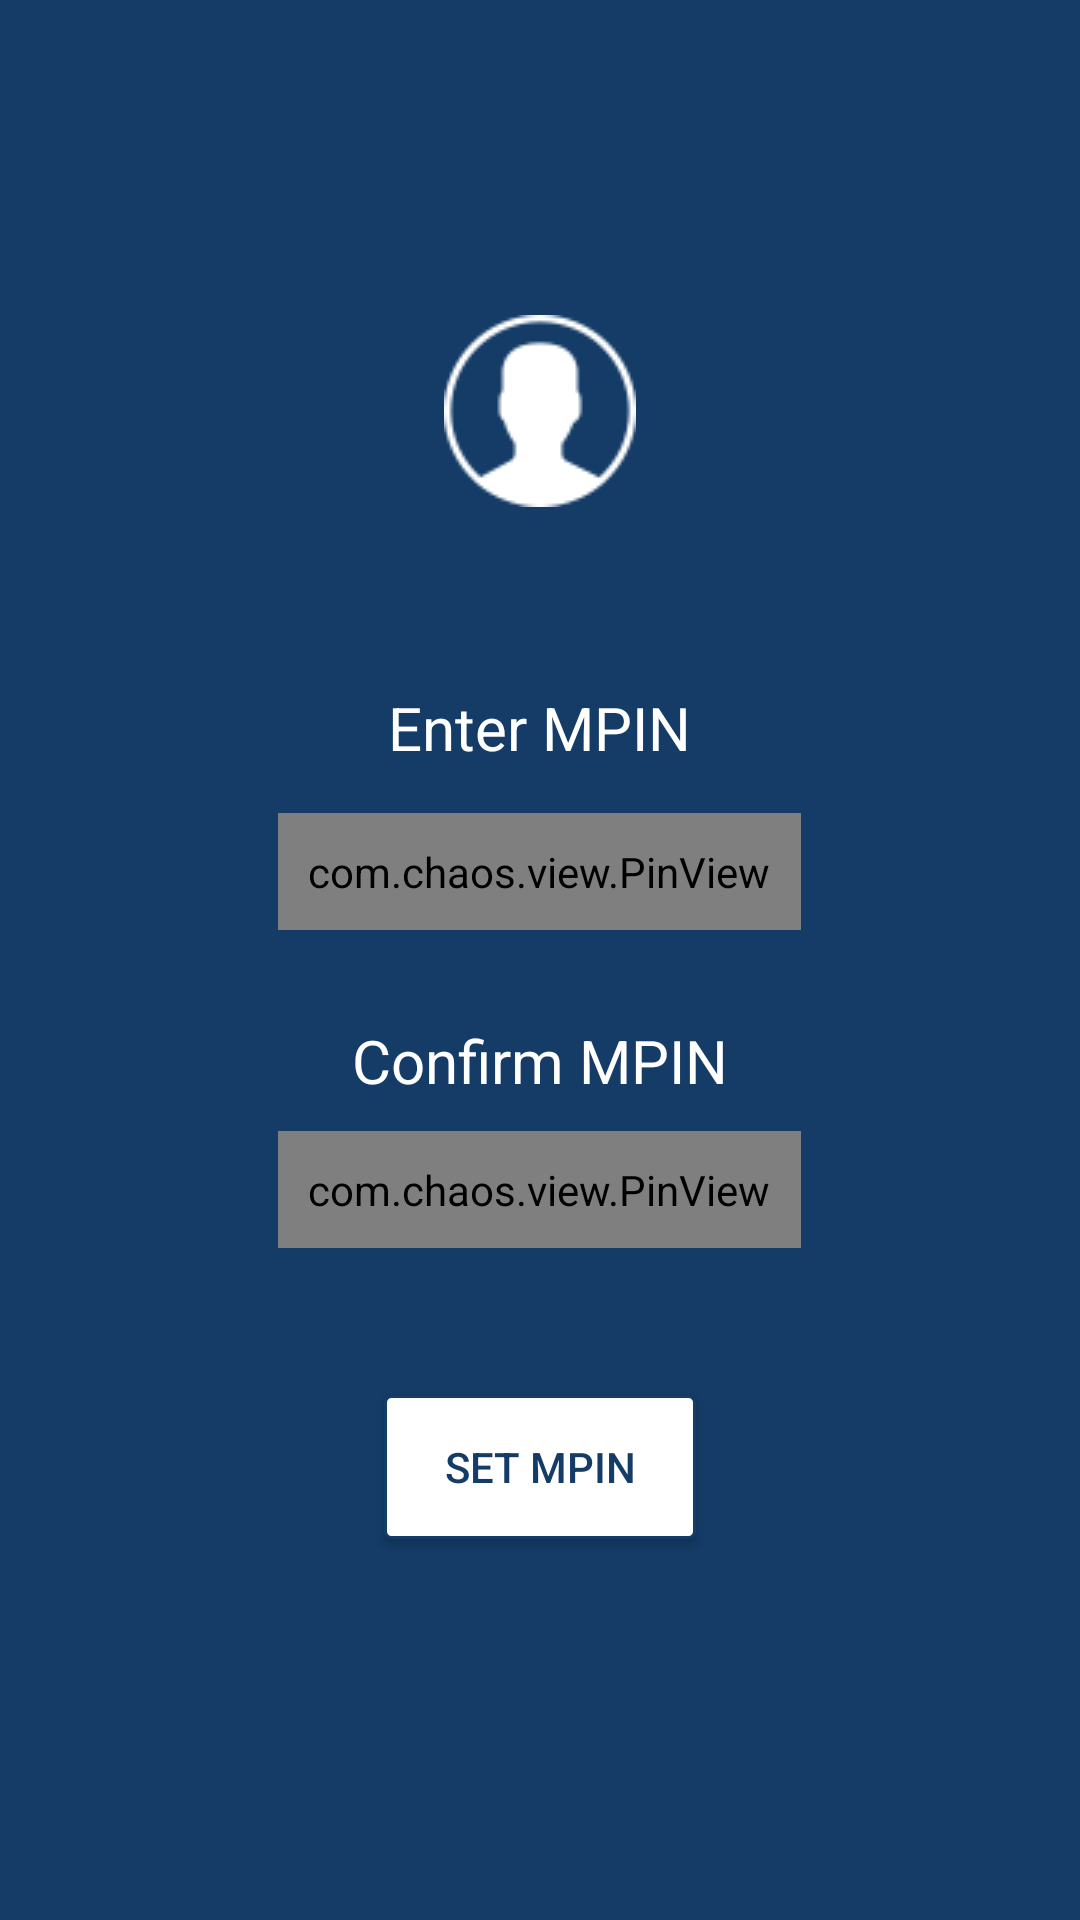

Screen size 1080x1920. Icon name, then its box in pixels as {"x1": x1, "y1": y1, "x2": x2, "y2": y2}:
user: {"x1": 444, "y1": 315, "x2": 636, "y2": 507}
